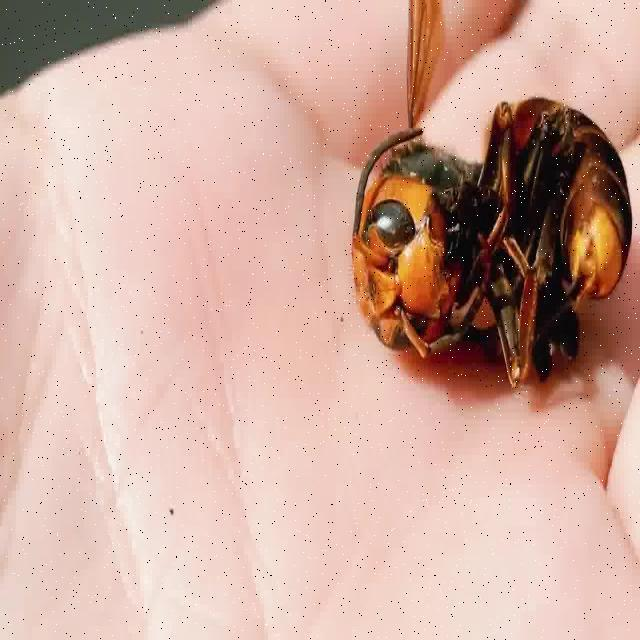Wasp: (344, 2, 630, 396)
